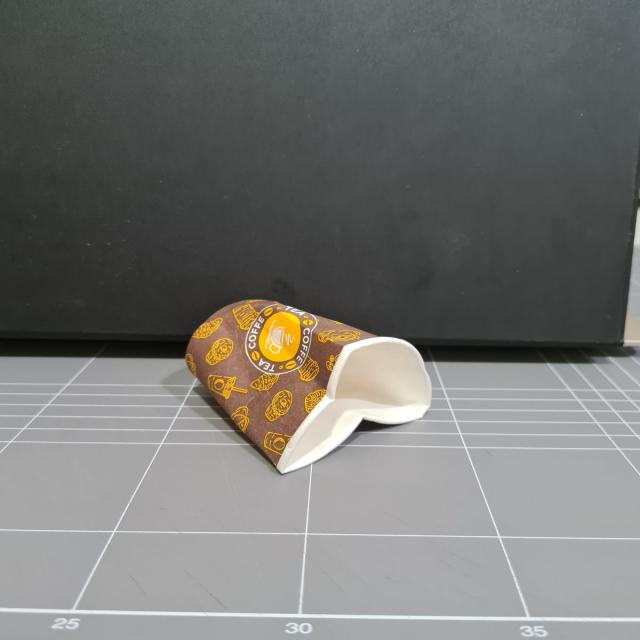cups: (171, 286, 446, 460)
